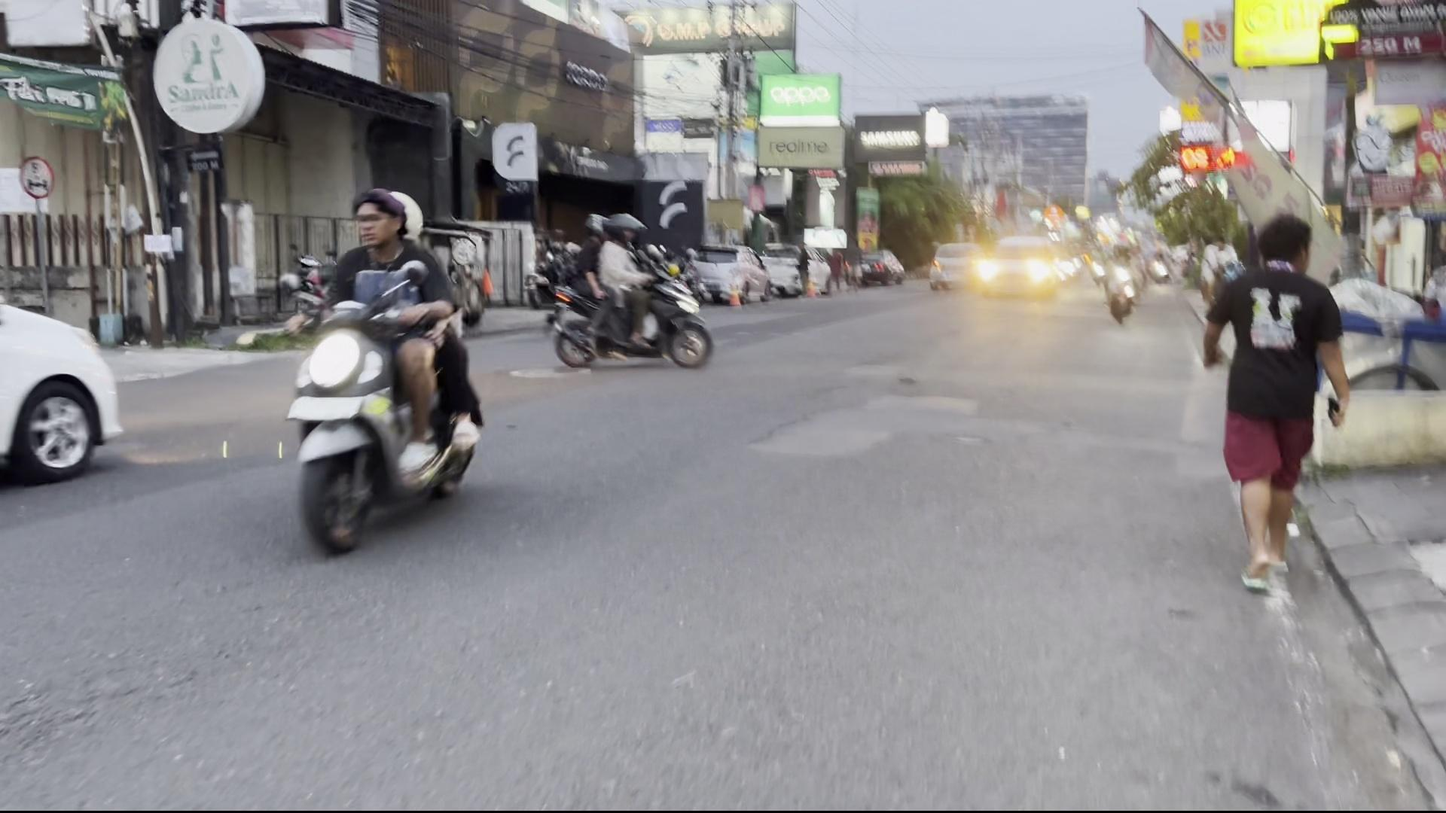nohelm: (348, 188, 403, 257)
riding: (271, 177, 494, 569)
